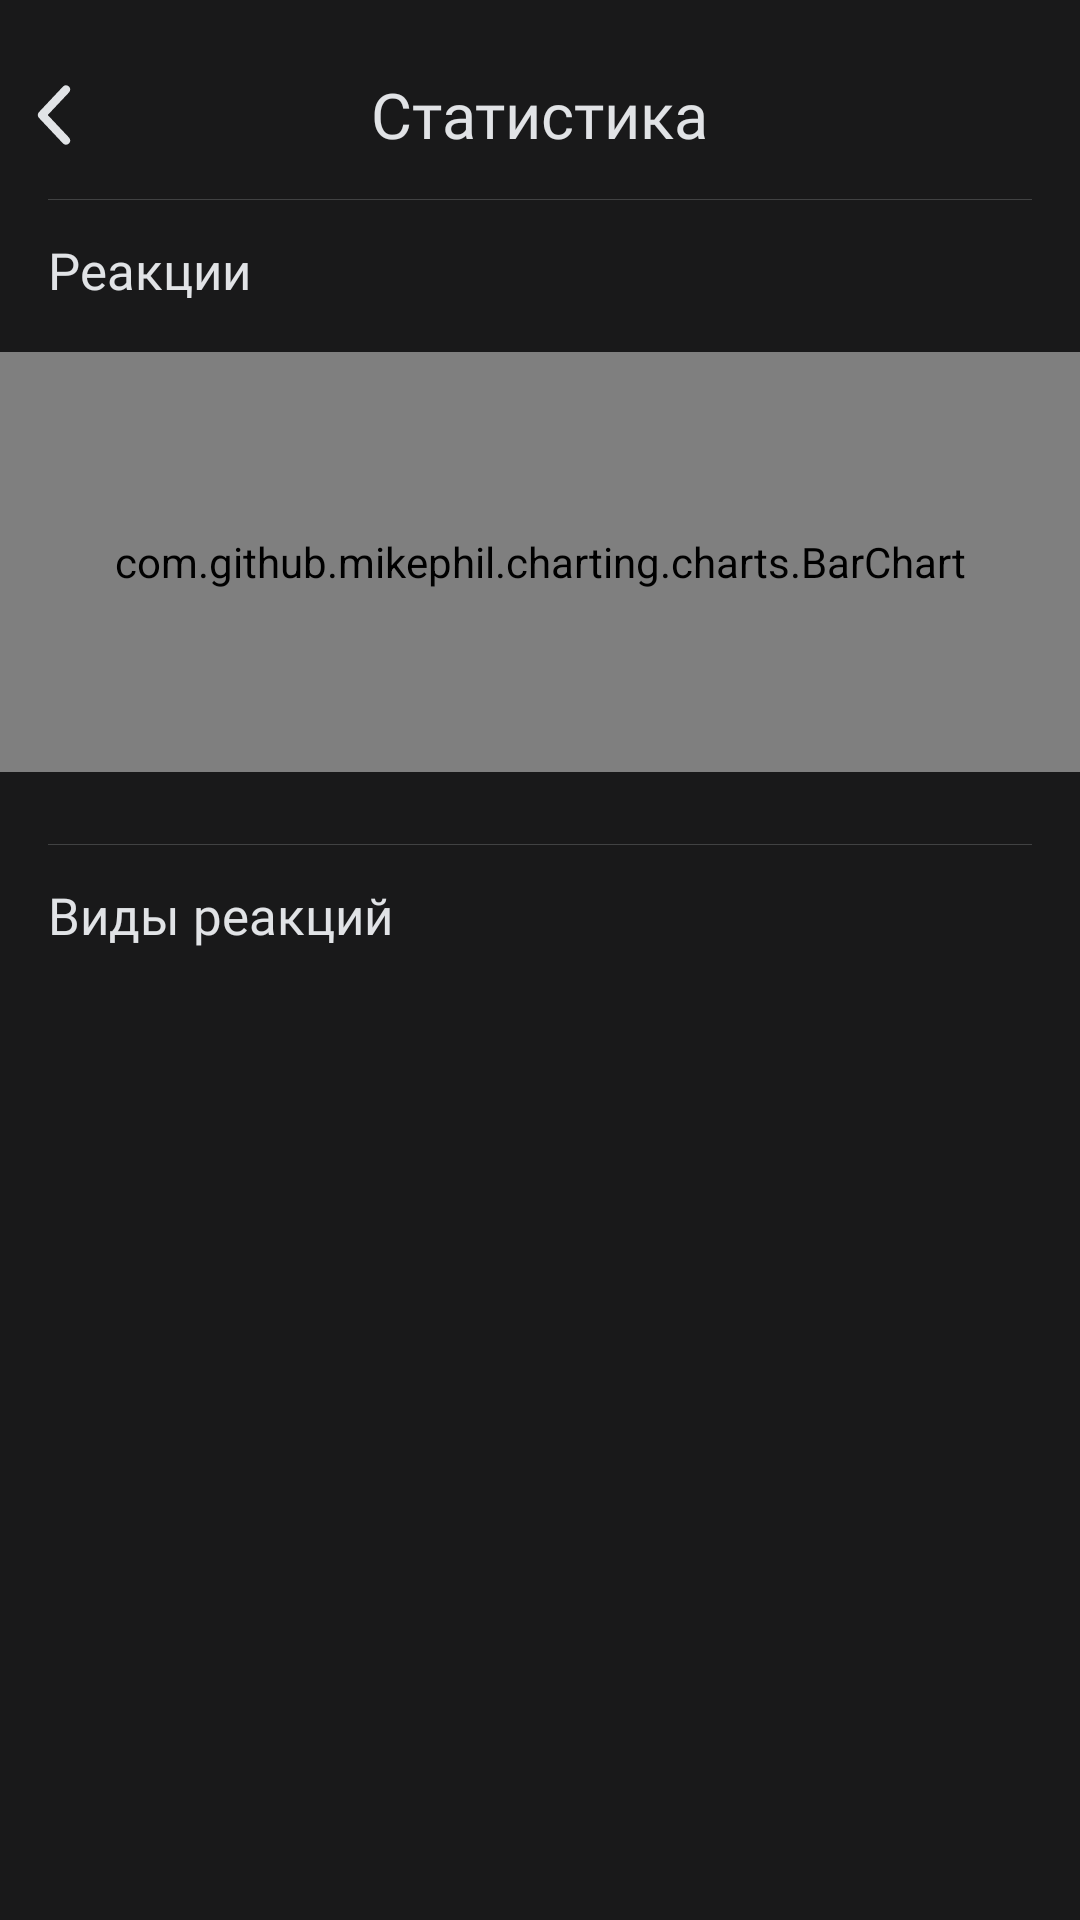

Icons on this 1080×1920 Android screen, each with the point to tap as point (x, y):
arrow back: point (54, 115)
